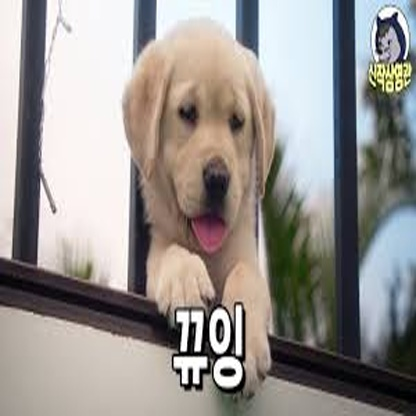guide-dog: (108, 11, 292, 400)
